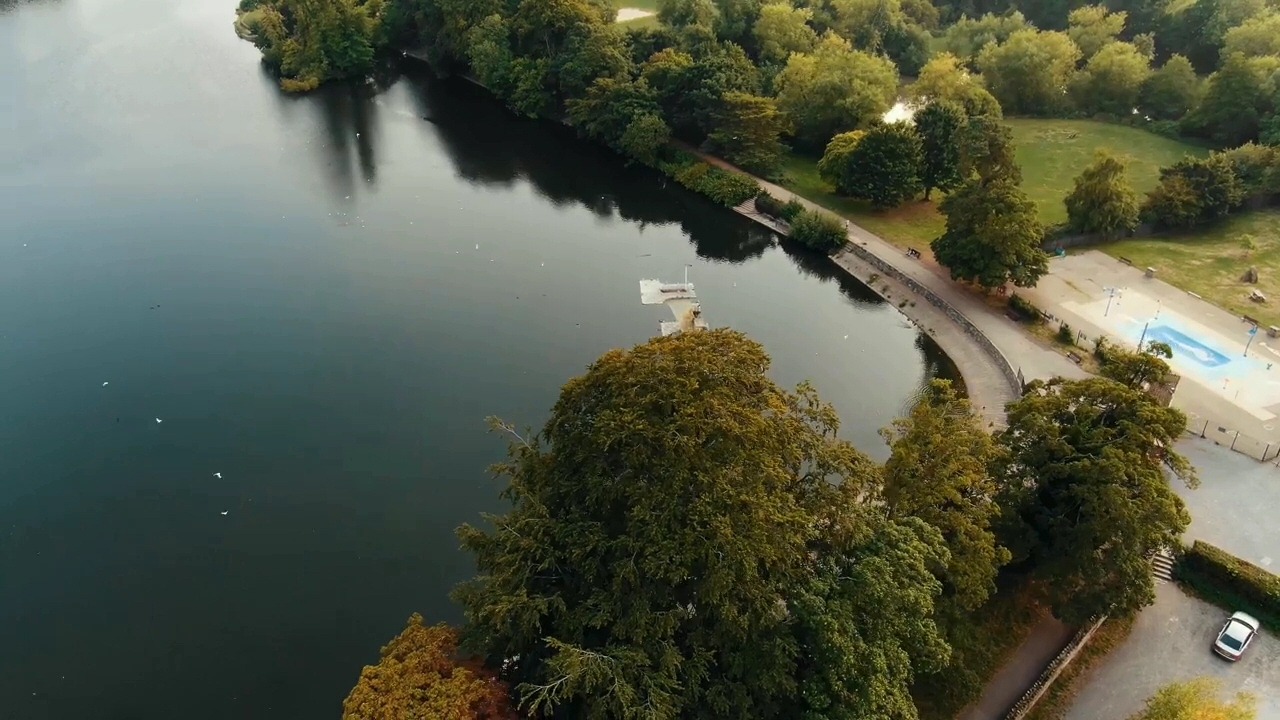araba: (1212, 606, 1259, 665)
